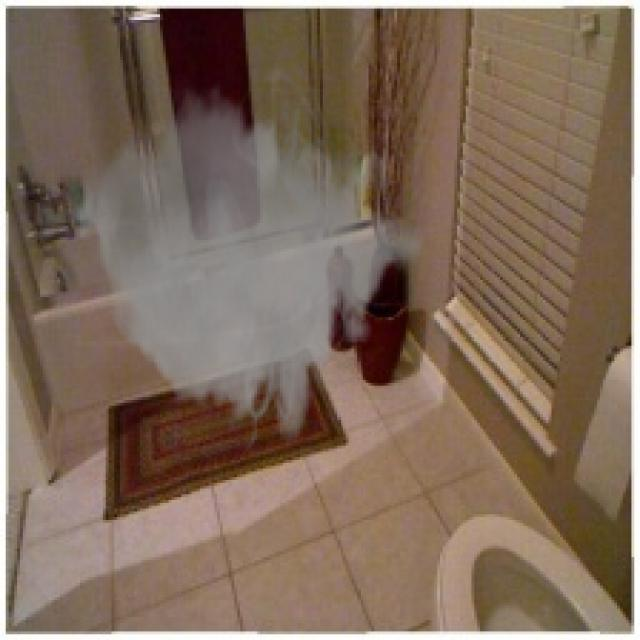smoke: (71, 54, 426, 457)
